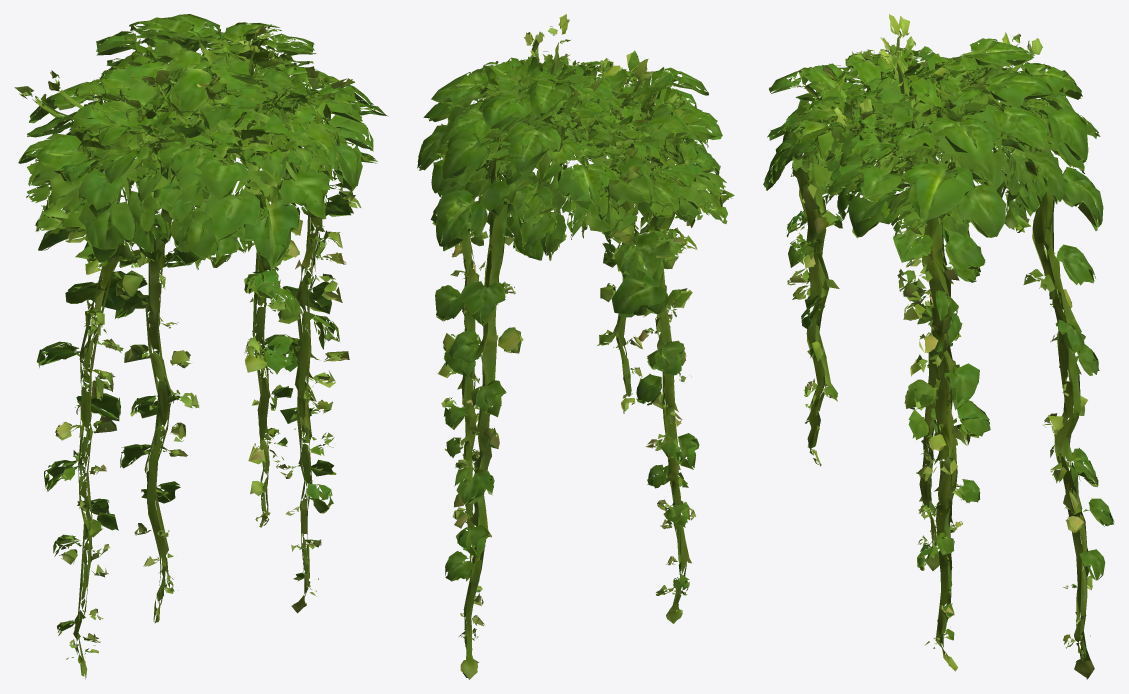
File: emerald-cascade.glb
The picture shows the model from 3 angles, left to right: view 1: azimuth 30°, elevation 25°; view 2: azimuth 150°, elevation 25°; view 3: azimuth 270°, elevation 25°; orthographic projection. The views are drawn at different scales.
Parts seen in each view (by area): view 1: mesh_node; view 2: mesh_node; view 3: mesh_node.
Boxes of the visible parts, left/top/right/bottom form: mesh_node: left=14, top=14, right=388, bottom=679; mesh_node: left=417, top=14, right=734, bottom=679; mesh_node: left=763, top=14, right=1114, bottom=679.
Bounding box in the file's own units: 0.9927 × 1.9 × 0.9434.
Materials: 1 (1 with a texture image).
